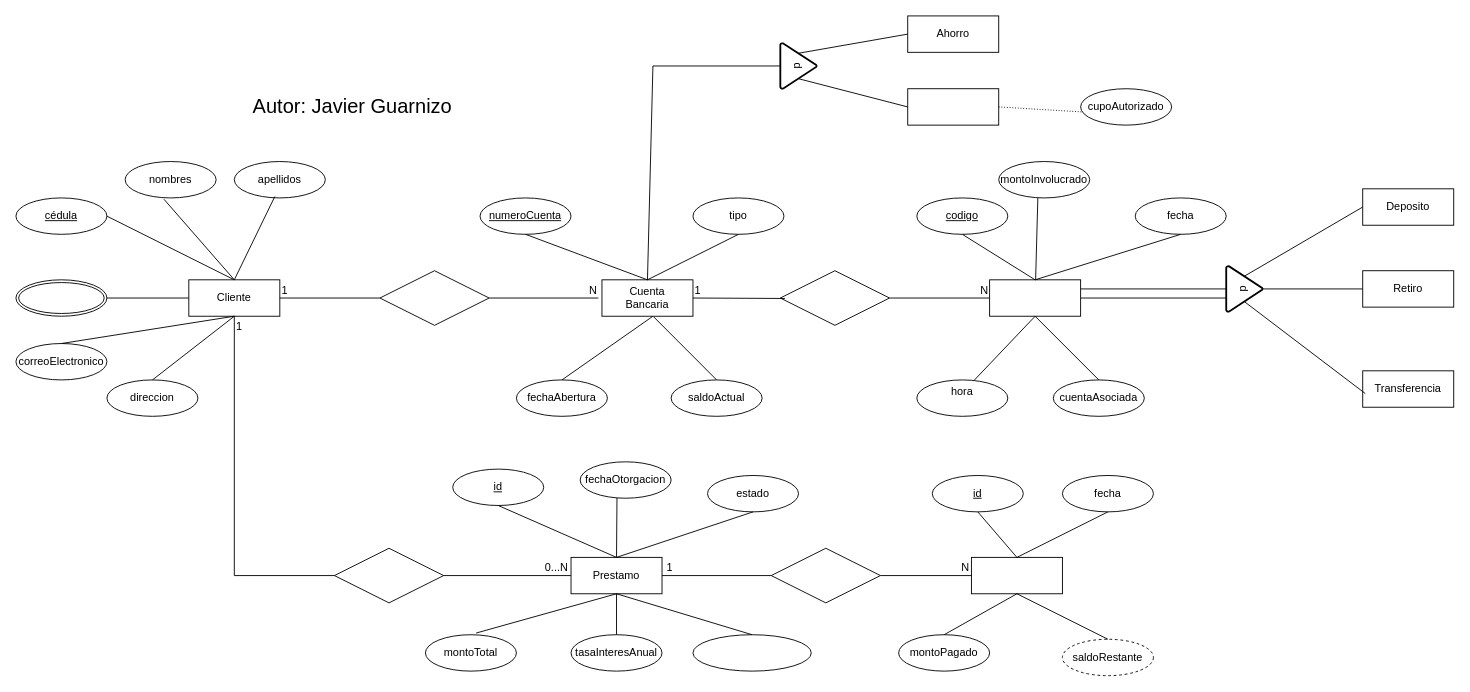
Image size: 1470x692. Some labels were removed from this diagram. The centre of each missing label's shape, as x and y in pixels:
Corriente: the point at 953,106
es dueño: the point at 434,297
es solventado: the point at 825,575
fechaEstimadaCierre: the point at 751,652
lleva registro: the point at 834,297
Pago: the point at 1016,575
solicita: the point at 389,575
telefonos: the point at 61,297
Transaccion: the point at 1035,297
